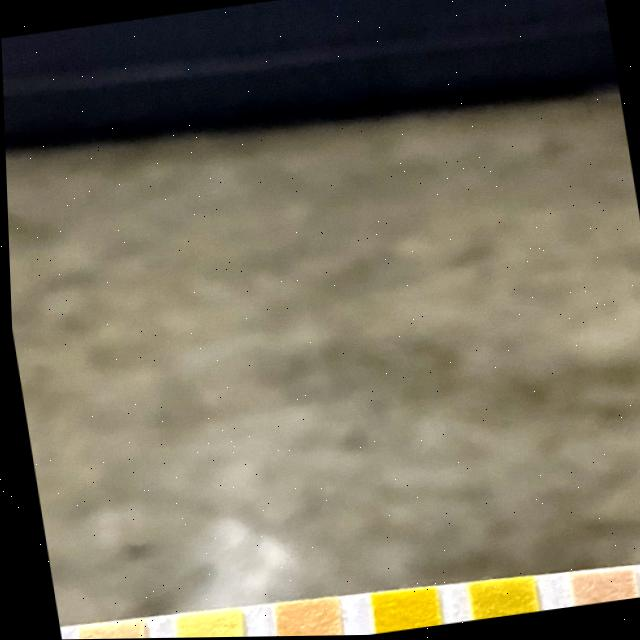Blood: (367, 586, 437, 634)
Ketone: (563, 567, 631, 608)
Protein: (168, 607, 238, 638)
SpGravity: (462, 578, 532, 621)
Urobilinogen: (71, 620, 141, 639)
pH: (268, 596, 339, 637)
